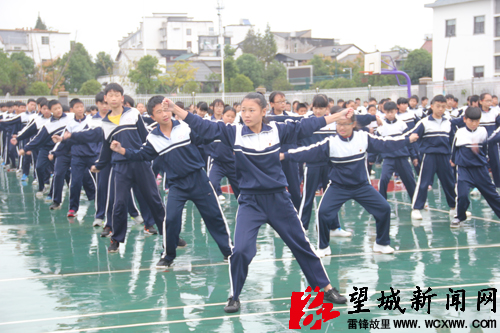handsup: (161, 88, 369, 317), (109, 96, 240, 270)
other: (86, 81, 172, 255)
